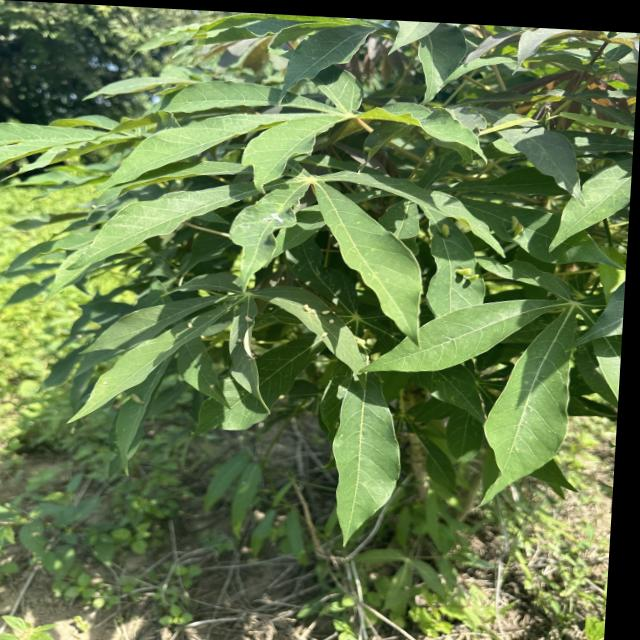Mosca: (504, 211, 539, 246), (105, 385, 152, 408), (444, 208, 476, 240), (454, 263, 482, 287), (432, 216, 453, 247), (241, 307, 265, 327), (232, 331, 248, 357), (301, 297, 319, 318), (182, 315, 200, 333), (207, 378, 223, 395)
